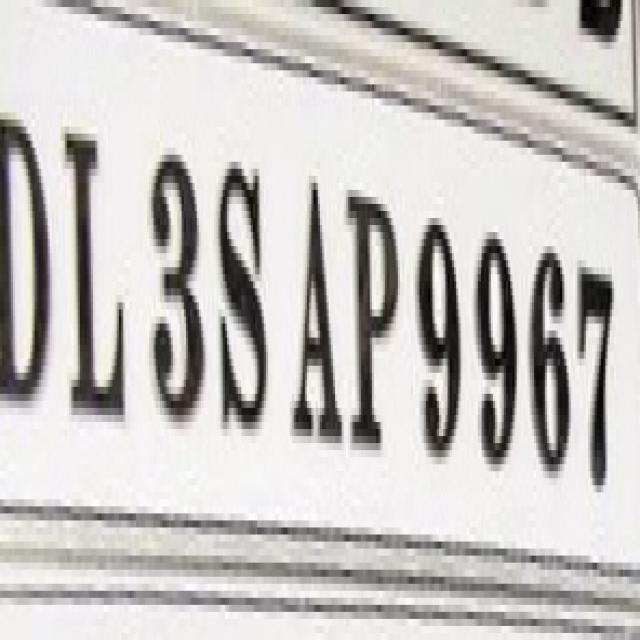3: (144, 124, 207, 453)
6: (529, 222, 573, 503)
7: (574, 244, 618, 513)
9: (416, 178, 468, 490), (470, 203, 521, 472)
A: (288, 148, 344, 482)
D: (1, 77, 55, 427)
L: (57, 87, 133, 445)
P: (343, 178, 402, 482)
S: (212, 114, 276, 450)
